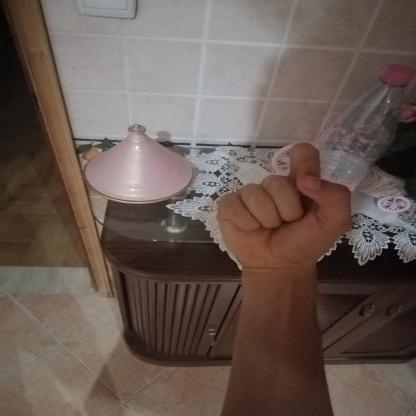FAA: (202, 133, 367, 279)
